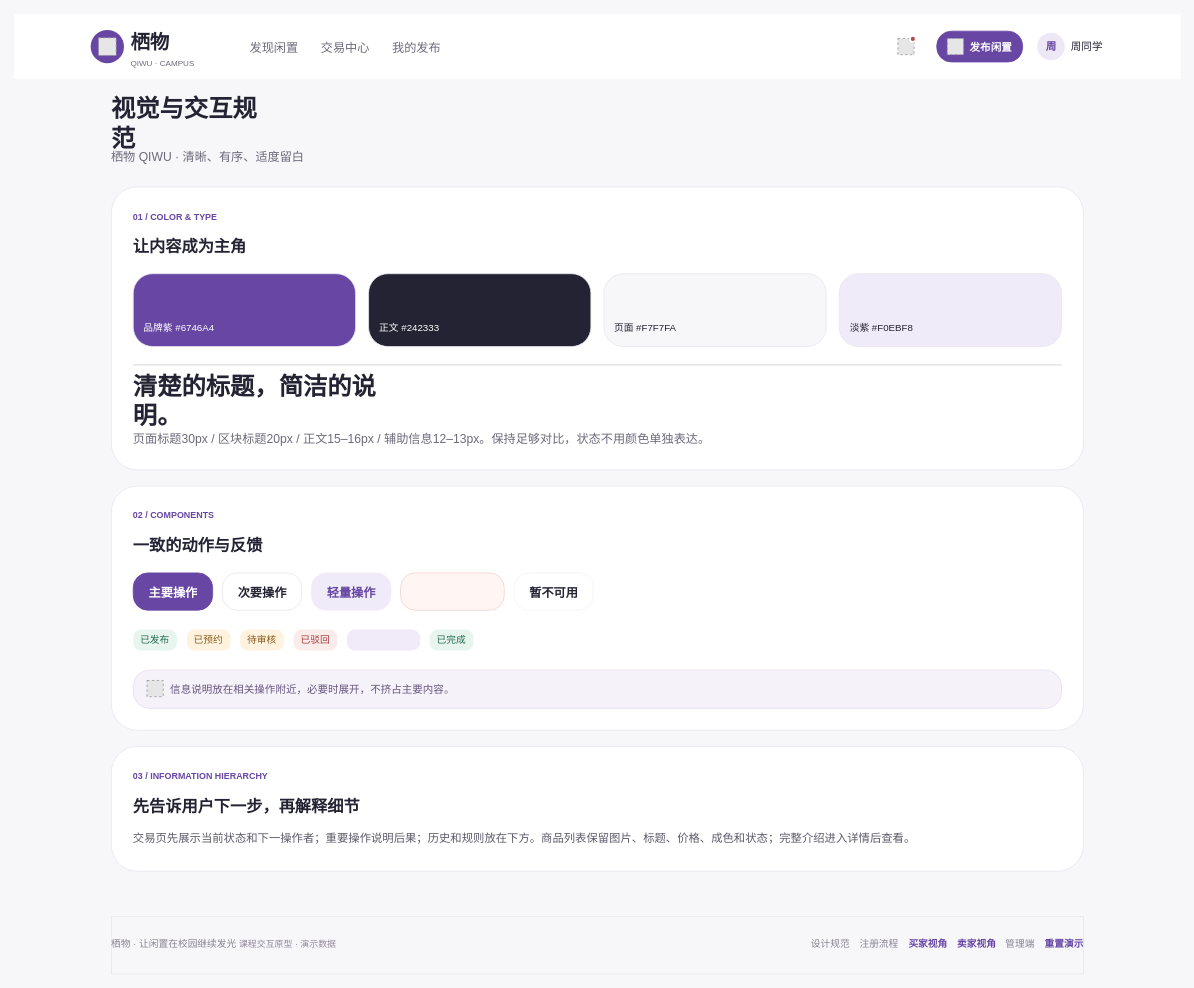
This 1194x988 diagram has some shape labels left out. Grey dashed boxes stand in for pictures. The centre of each missing label's shape, as x and y in pixels:
"已确认待交接" belongs at (x=383, y=639).
"有影响的操作" belongs at (x=452, y=591).
